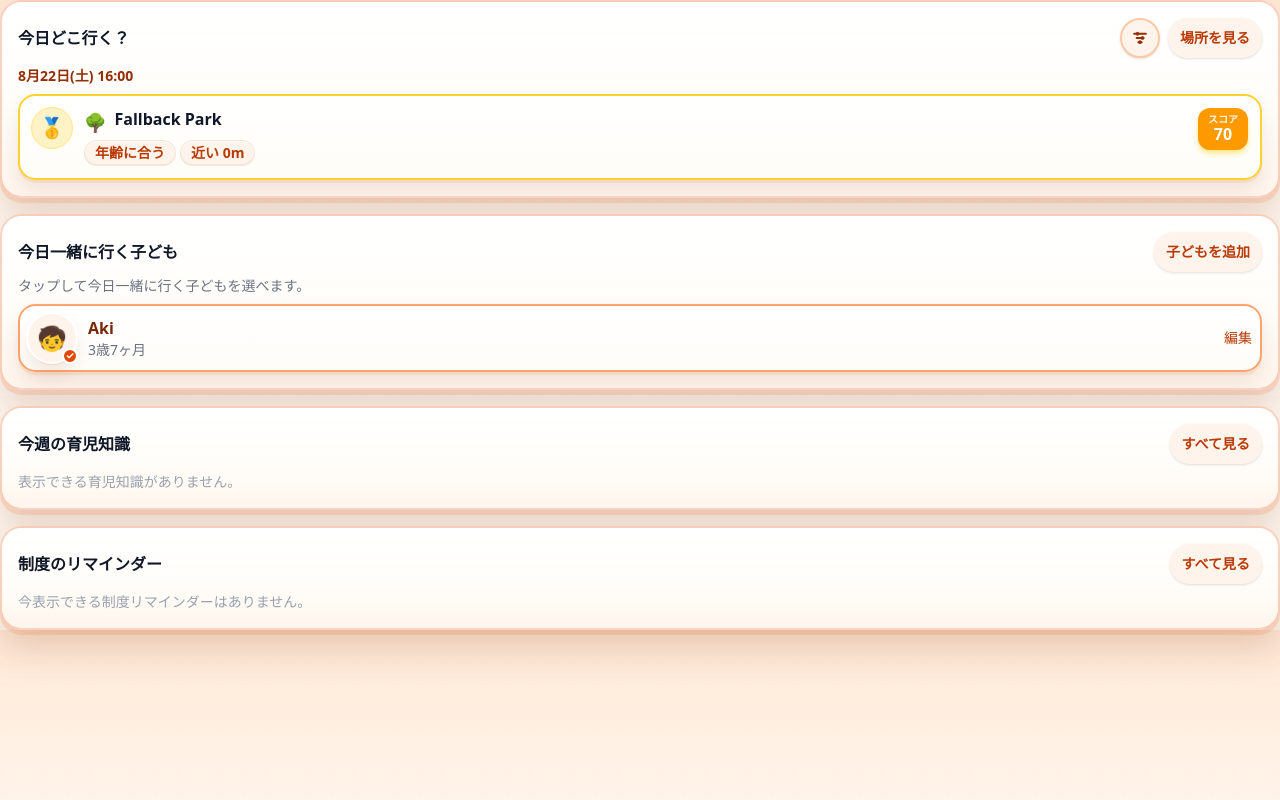
it: HomePage recommendations › uses municipality fallback when GPS is unavailable
The image size is (1280, 800).
Expected: the text "Fallback Park" is shown, [114,108,222,130]
Expected: the text "居住地:" is not shown
Click the button named "フィルター" at (1140, 38), box [1120,18,1160,58]
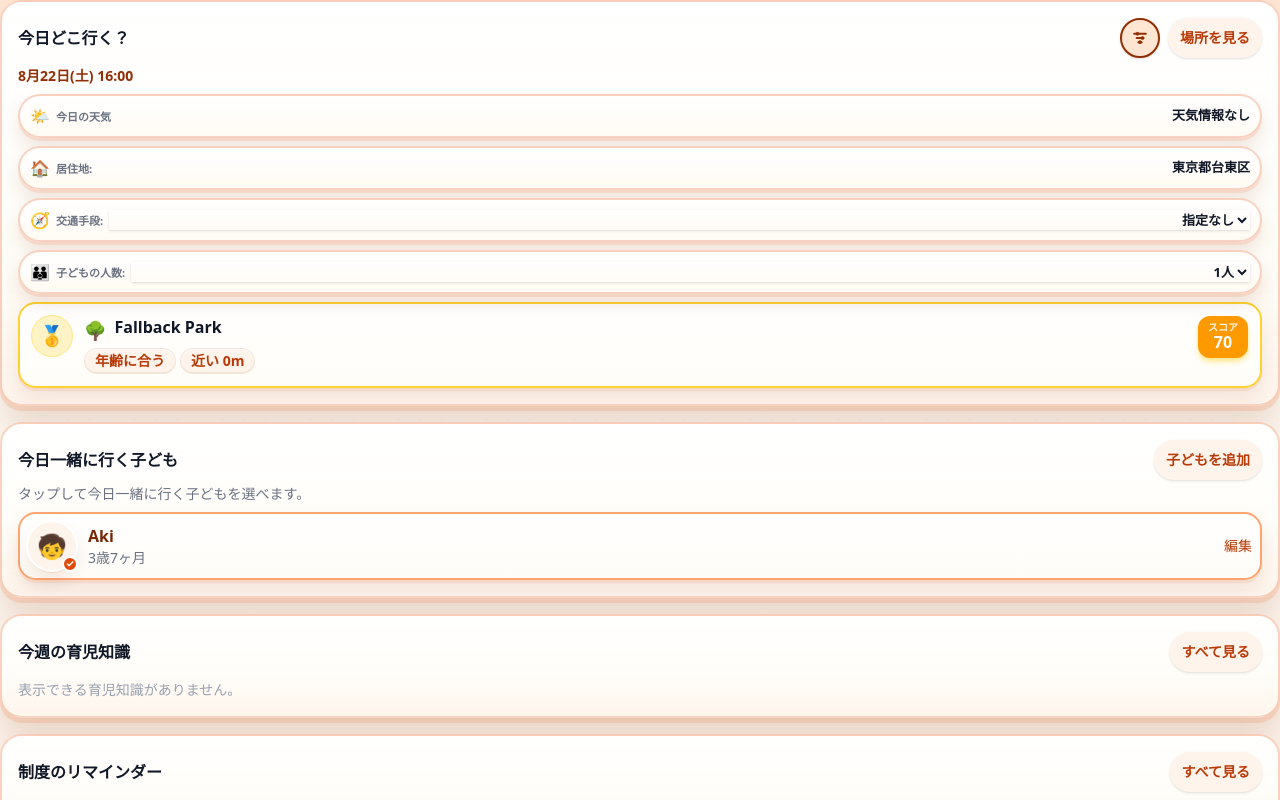
Now the text "居住地:" is shown, box [56,162,92,174]
Now the text "今日の天気" is shown, box [56,110,111,122]
